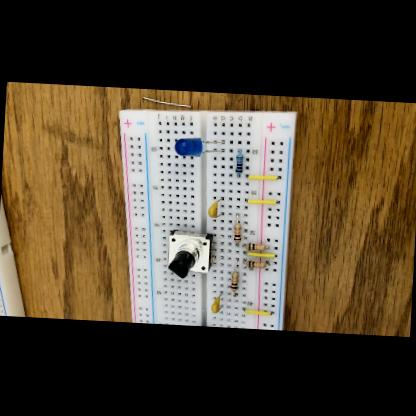breadboard: (108, 100, 296, 329)
resistor: (230, 270, 239, 290), (246, 241, 266, 250), (245, 259, 265, 268), (233, 221, 241, 242), (236, 152, 244, 172)
wire: (143, 96, 190, 106), (205, 139, 224, 143), (205, 147, 223, 151), (234, 257, 238, 270), (218, 290, 222, 296), (219, 304, 223, 310), (217, 212, 222, 216), (236, 212, 238, 221), (243, 258, 246, 264), (242, 306, 246, 310), (266, 260, 270, 264), (270, 310, 274, 314), (218, 197, 223, 200), (233, 291, 236, 296), (241, 244, 245, 247), (276, 175, 280, 178), (238, 148, 240, 152), (245, 198, 247, 202), (266, 245, 270, 247), (238, 173, 240, 176), (236, 242, 238, 245), (244, 251, 247, 253), (276, 200, 279, 202), (245, 175, 247, 177), (275, 254, 276, 256)
